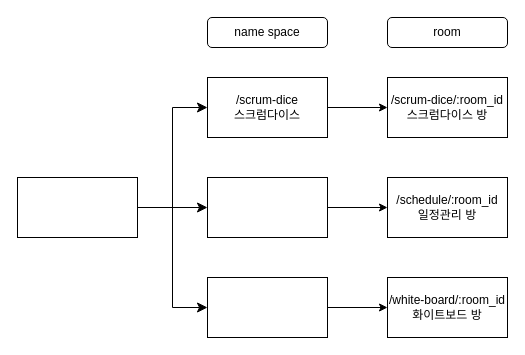
This 525x355 diagram has some shape labels left out. Each missing label, with the centre of its shape:
"/ 메인" belongs at point (77, 207).
"/schedule 일정관리" belongs at point (267, 207).
"/white-board 화이트보드" belongs at point (267, 307).
